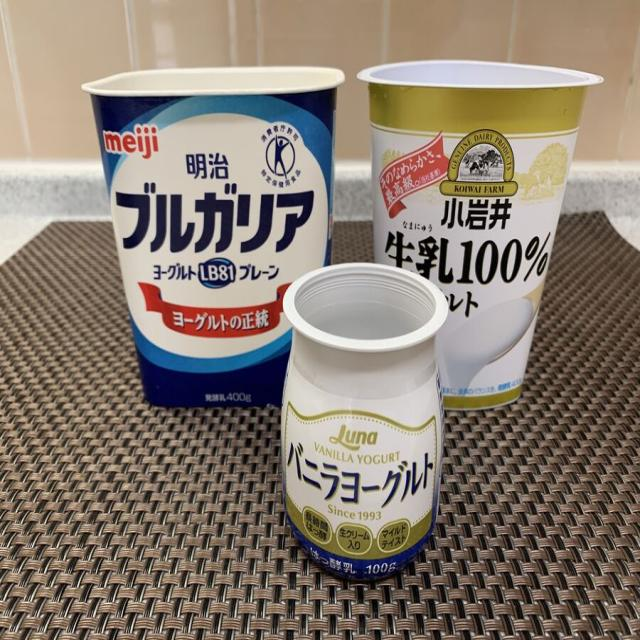plastic: (349, 52, 602, 412), (81, 52, 335, 410), (276, 260, 444, 578)
